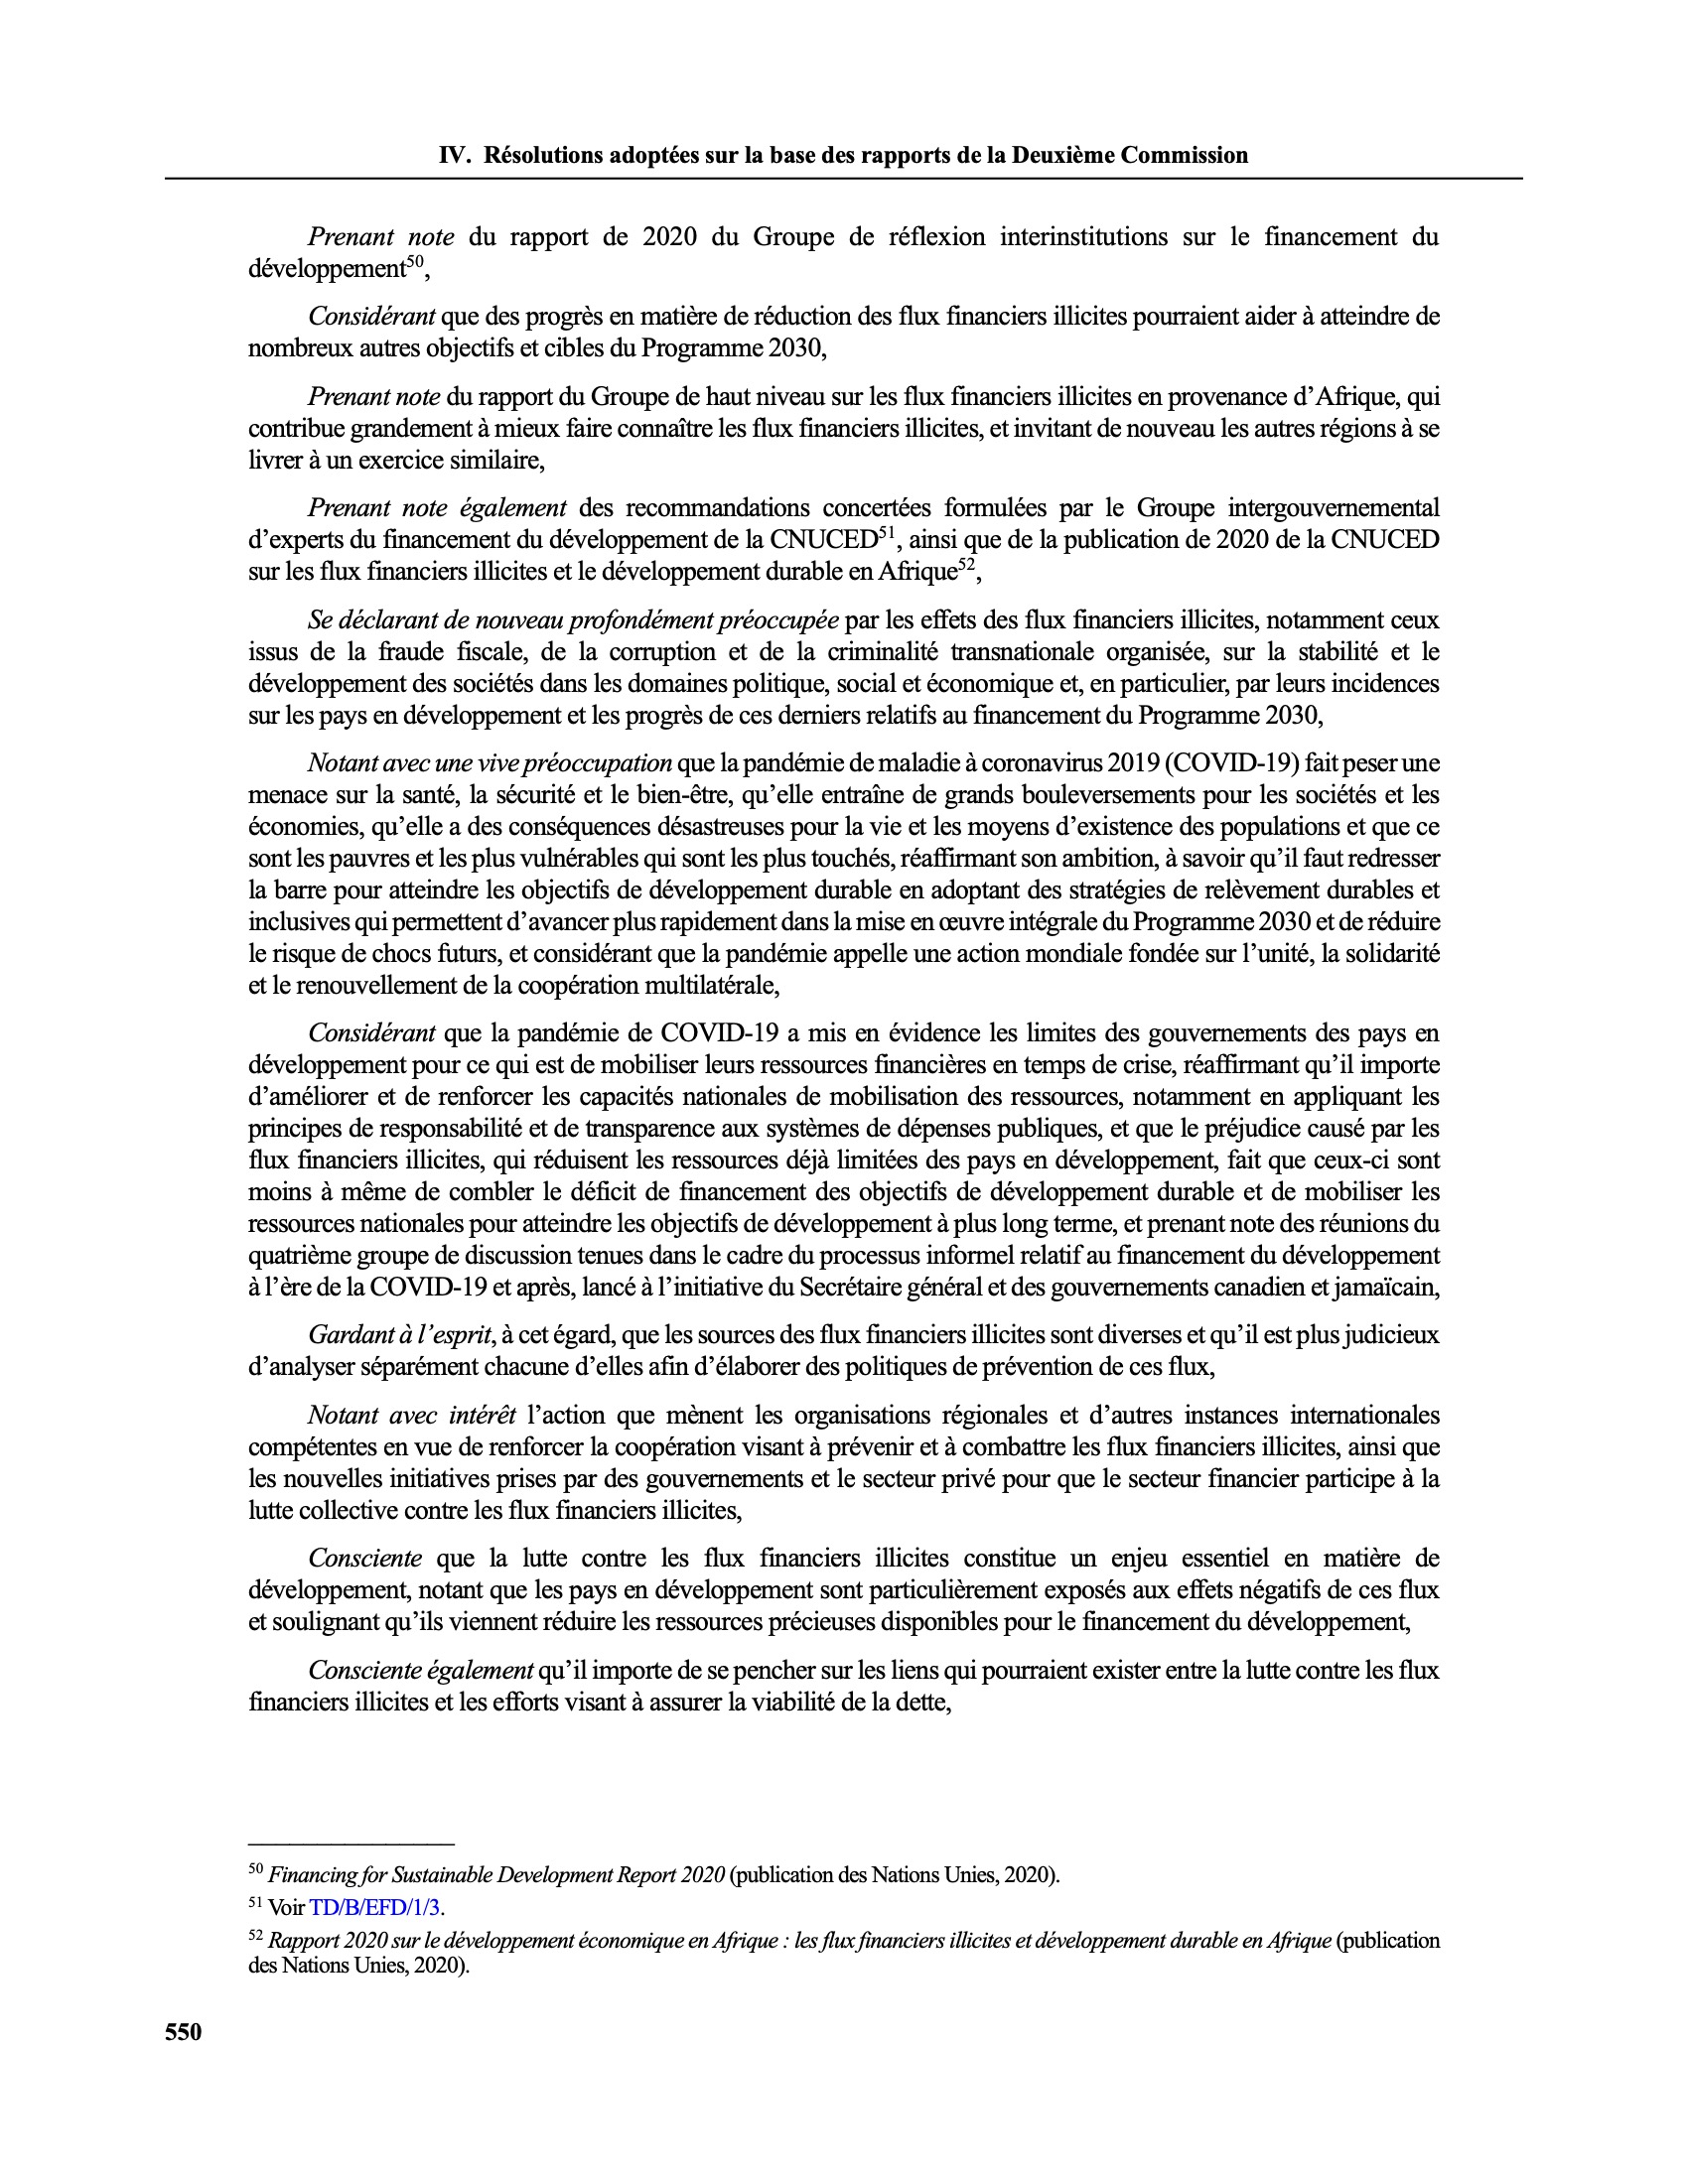MainZone-P: (241, 1014, 1447, 1308), (243, 743, 1445, 1000), (238, 601, 1450, 736), (238, 1397, 1450, 1530), (236, 376, 1454, 482), (236, 486, 1452, 592), (238, 1537, 1450, 1643), (241, 1649, 1454, 1732), (238, 211, 1449, 294), (236, 294, 1450, 370), (239, 1314, 1447, 1388)
MarginTextZone-Notes: (239, 1918, 1449, 1989), (239, 1852, 1076, 1891), (239, 1888, 447, 1922)
NumberingZone: (160, 2016, 207, 2049)
RunningTitleZone: (420, 131, 1262, 184)
